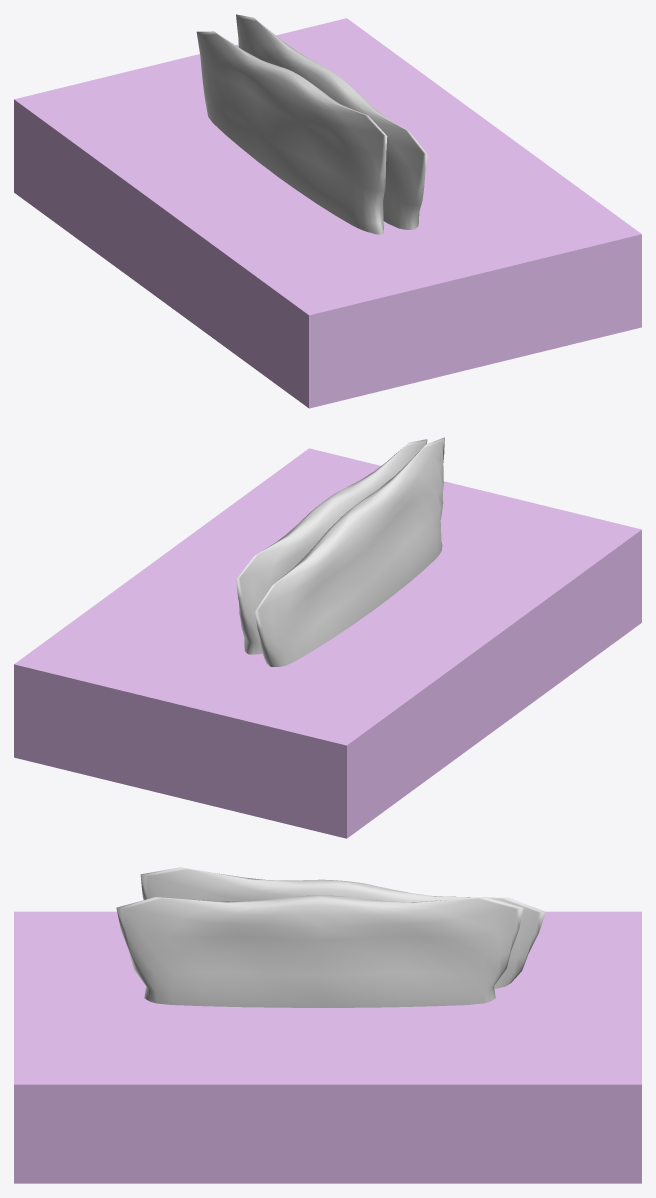
File: tissue.fbx
3 renders of one model, top to bottom at view 1: azimuth 30°, elevation 25°; view 2: azimuth 150°, elevation 25°; view 3: azimuth 270°, elevation 25°, orthographic. The views are drawn at different scales.
Visible parts, largest first — view 1: Cube.001, Sphere.001, Sphere; view 2: Cube.001, Sphere.001, Sphere; view 3: Cube.001, Sphere, Sphere.001.
Boxes of the visible parts, box(x1,y1,x2,y2) form: Cube.001: box(14, 18, 641, 408); Sphere.001: box(196, 31, 387, 234); Sphere: box(236, 14, 427, 229); Cube.001: box(14, 448, 641, 838); Sphere.001: box(254, 437, 444, 666); Sphere: box(236, 439, 427, 654); Cube.001: box(14, 911, 641, 1183); Sphere: box(116, 895, 523, 1007); Sphere.001: box(140, 867, 545, 988).
Size of the model in its own units: 56.19 by 32.61 by 86.31.
